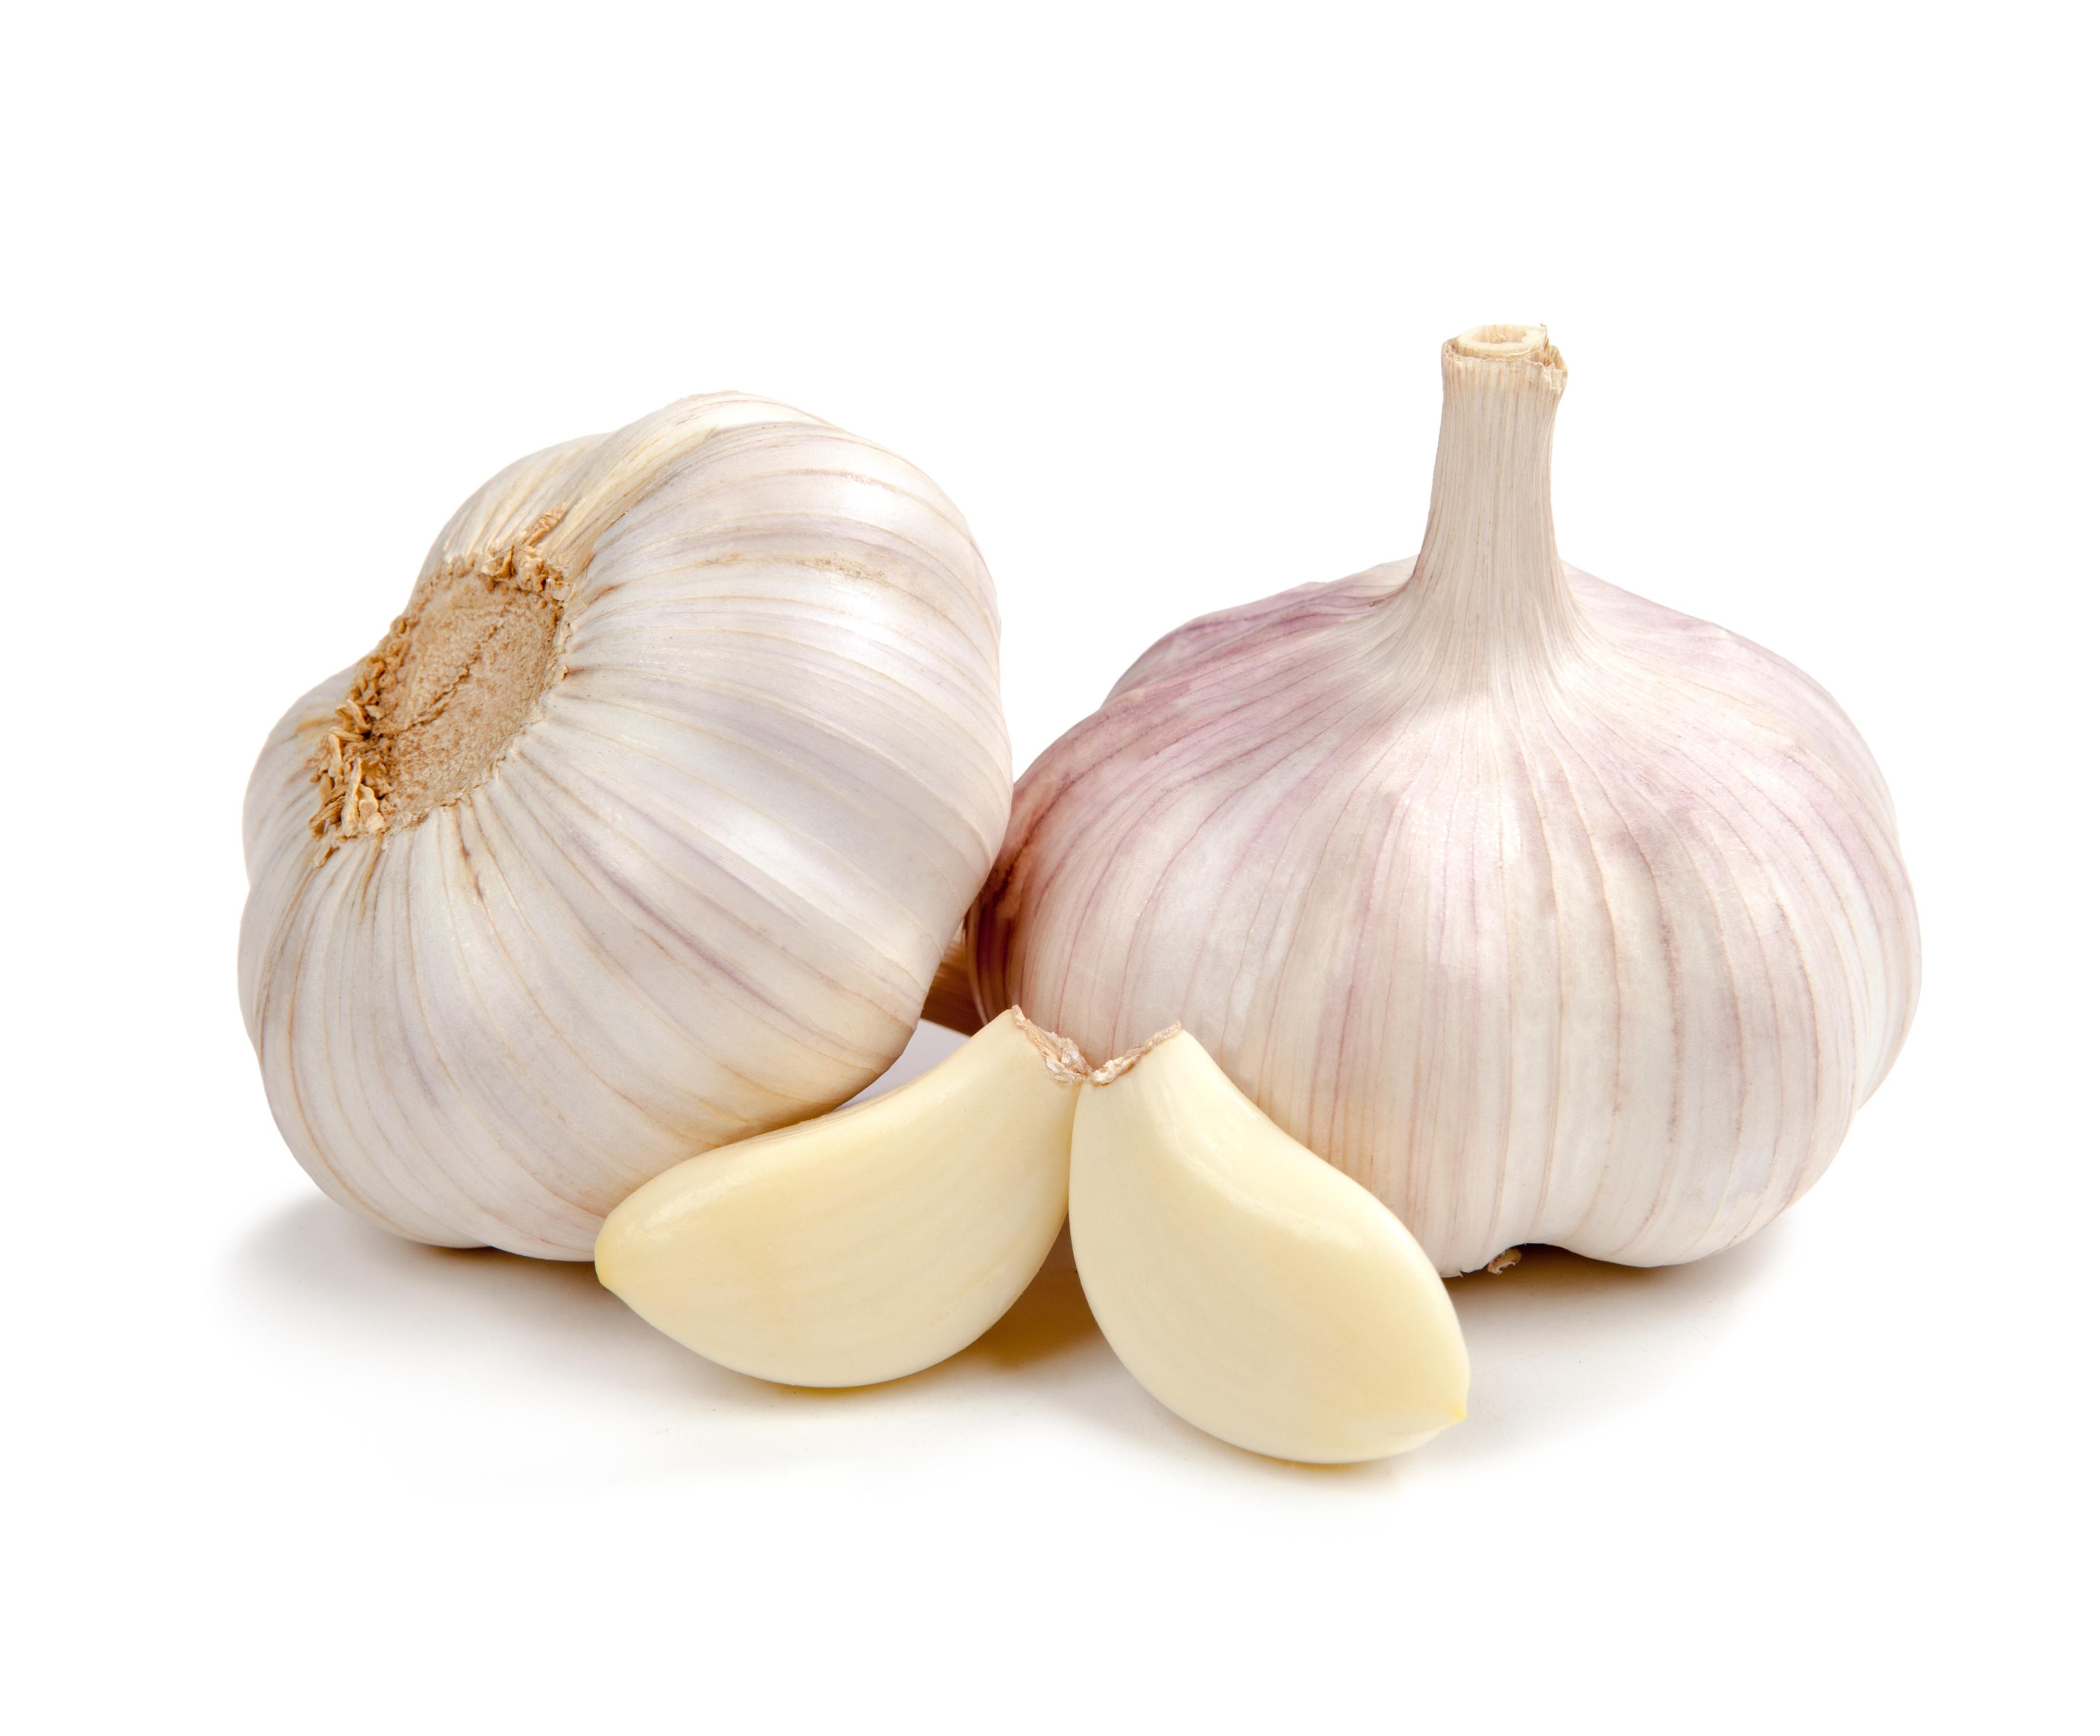garlic: (926, 319, 1924, 1279), (234, 387, 1015, 1265), (591, 1001, 1472, 1467)
